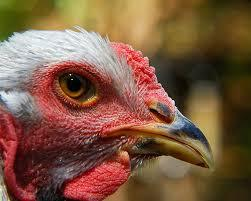AbNormal: (115, 43, 174, 106)
